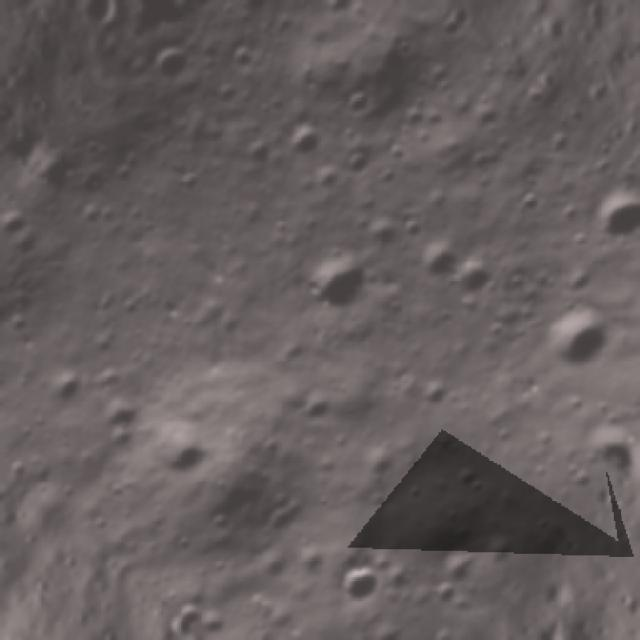crater: (282, 227, 390, 336), (525, 285, 629, 389), (134, 403, 226, 494), (313, 540, 401, 626), (564, 174, 640, 271), (407, 228, 475, 298), (271, 107, 338, 175), (443, 246, 506, 311), (90, 388, 152, 450), (29, 358, 91, 420), (140, 34, 202, 95), (287, 380, 348, 442), (358, 207, 417, 265), (328, 75, 386, 133), (332, 138, 382, 188), (0, 198, 43, 252), (507, 175, 555, 223), (311, 0, 369, 34), (423, 573, 466, 616), (0, 267, 18, 326), (389, 631, 456, 640), (0, 308, 8, 362), (631, 280, 640, 325)
